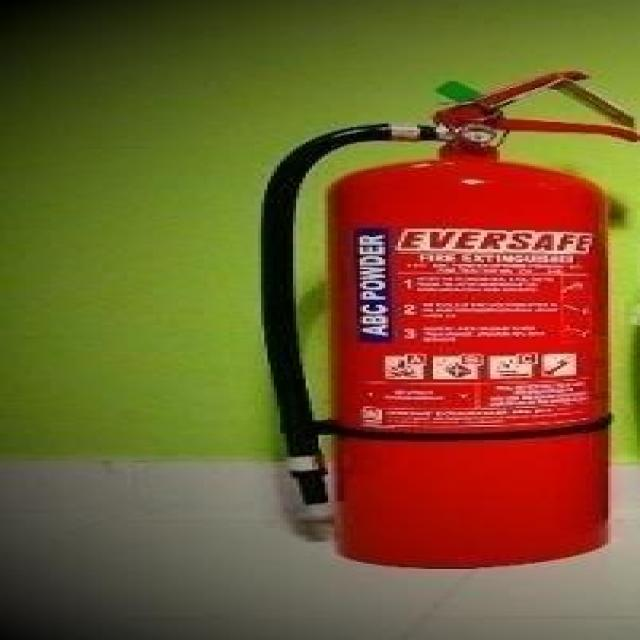fire_extinguisher: (236, 62, 636, 573)
